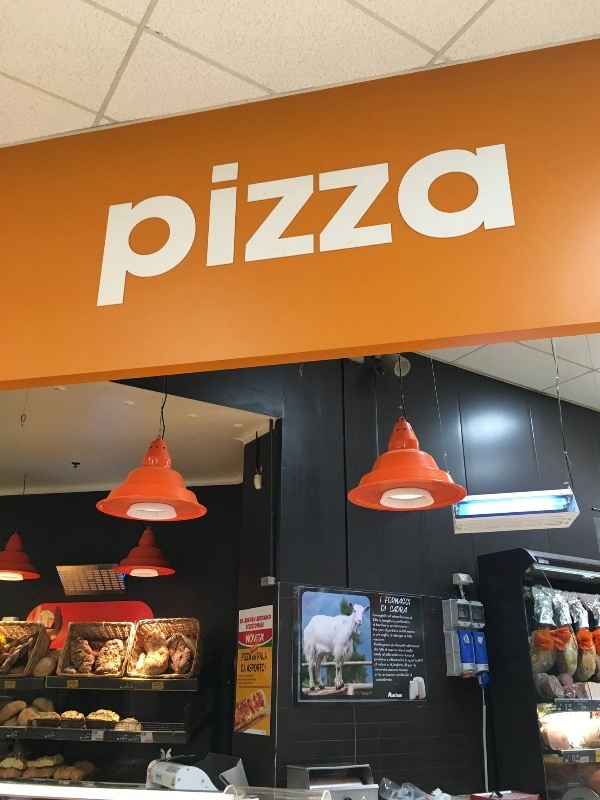text: (113, 129, 128, 316), (129, 129, 144, 316), (145, 129, 160, 316), (161, 129, 176, 316), (177, 129, 192, 316), (193, 129, 208, 316), (209, 129, 224, 316), (225, 129, 240, 316), (241, 129, 256, 316), (257, 129, 272, 316), (273, 129, 288, 316), (289, 129, 304, 316), (305, 129, 320, 316), (321, 129, 336, 316), (337, 129, 352, 316), (353, 129, 368, 316), (369, 129, 384, 316), (385, 129, 400, 316), (401, 129, 416, 316), (417, 129, 432, 316), (433, 129, 448, 316), (449, 129, 464, 316), (465, 129, 480, 316), (481, 129, 496, 316), (497, 129, 512, 316), (385, 613, 400, 683), (401, 613, 416, 683), (513, 129, 518, 316), (372, 613, 384, 683), (417, 613, 426, 683), (110, 129, 112, 316), (241, 674, 256, 689), (257, 674, 272, 689), (385, 596, 400, 606), (242, 652, 256, 662), (258, 651, 272, 661), (241, 664, 256, 673), (257, 614, 272, 622), (68, 680, 80, 689), (401, 596, 411, 606), (247, 633, 256, 644), (390, 605, 400, 614), (247, 663, 256, 673), (257, 663, 266, 673), (241, 618, 256, 624), (257, 633, 265, 644), (245, 616, 256, 624), (145, 732, 153, 743), (246, 622, 256, 630), (6, 682, 16, 690), (566, 703, 576, 711), (389, 692, 400, 699), (97, 731, 104, 741), (581, 706, 592, 712), (257, 622, 265, 630), (401, 605, 408, 614), (153, 682, 160, 691), (581, 758, 592, 763), (577, 701, 588, 706), (87, 733, 96, 739), (134, 737, 144, 742), (171, 767, 176, 776), (85, 736, 96, 740), (92, 731, 96, 741), (161, 682, 165, 691), (156, 774, 160, 783), (141, 732, 144, 743), (572, 754, 576, 762), (380, 597, 384, 604), (252, 654, 256, 661), (569, 704, 576, 708), (381, 604, 384, 613), (177, 767, 180, 776), (122, 737, 128, 741), (124, 735, 128, 741), (385, 604, 387, 613), (161, 774, 163, 783), (239, 674, 240, 689), (577, 755, 580, 759), (574, 701, 576, 706), (597, 755, 600, 758), (401, 692, 402, 699)
